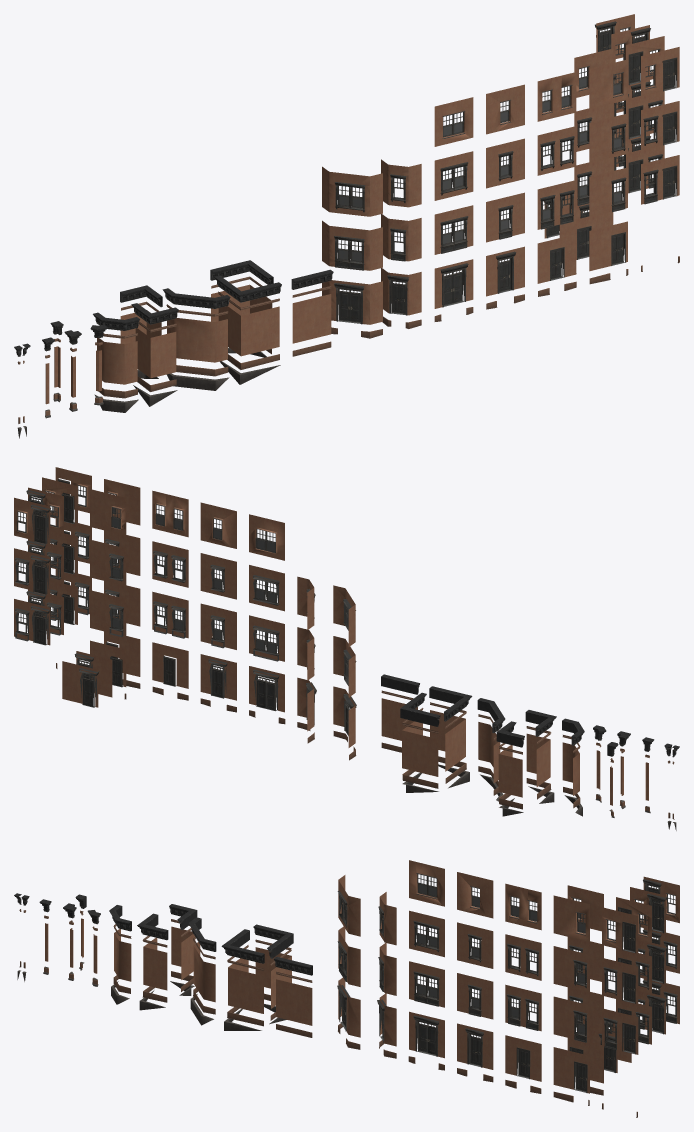
Rendered from apartments.glb.
3 views of the same model, one above another, from view 1: azimuth 30°, elevation 25°; view 2: azimuth 150°, elevation 25°; view 3: azimuth 330°, elevation 25° (orthographic). The views are drawn at different scales.
Parts seen in each view (by area): view 1: wall_door_centered_large_01, door_angled_small_01, door_window_small_09, crown_standard_angled_large_01; view 2: wall_door_centered_large_01, door_angled_small_01, crown_standard_angled_large_01, door_window_small_09; view 3: wall_door_centered_large_01, door_angled_small_01, door_window_small_09, crown_standard_angled_large_01.
Part boxes in pixels (x1,y1,x2,y2): wall_door_centered_large_01: [45, 14, 679, 404]; door_angled_small_01: [334, 21, 677, 324]; door_window_small_09: [17, 26, 679, 438]; crown_standard_angled_large_01: [14, 260, 333, 356]; wall_door_centered_large_01: [14, 467, 648, 805]; door_angled_small_01: [15, 478, 356, 735]; crown_standard_angled_large_01: [381, 674, 679, 757]; door_window_small_09: [18, 489, 676, 830]; wall_door_centered_large_01: [45, 860, 679, 1093]; door_angled_small_01: [337, 874, 677, 1092]; door_window_small_09: [17, 873, 675, 1117]; crown_standard_angled_large_01: [14, 893, 312, 975].
Bounding box in the file's own units: 51.53 × 17 × 6.66.
Materials: 5 (5 with a texture image).
